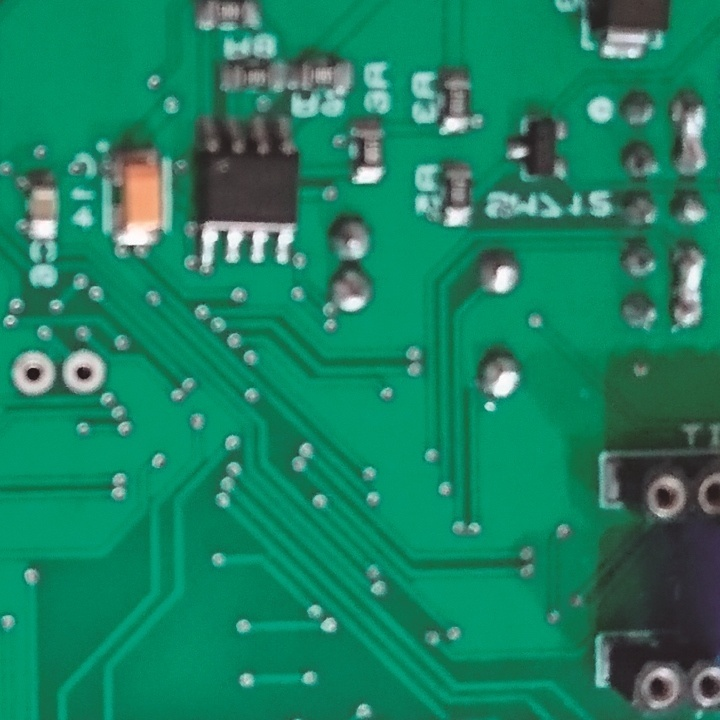F: (60, 346, 107, 398), (9, 348, 54, 395)
P: (670, 89, 709, 177), (671, 243, 707, 330)
